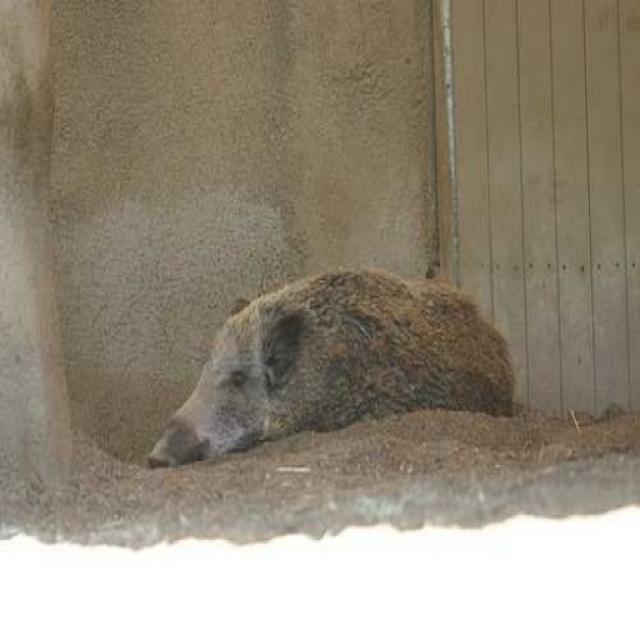pig: (151, 214, 607, 502)
